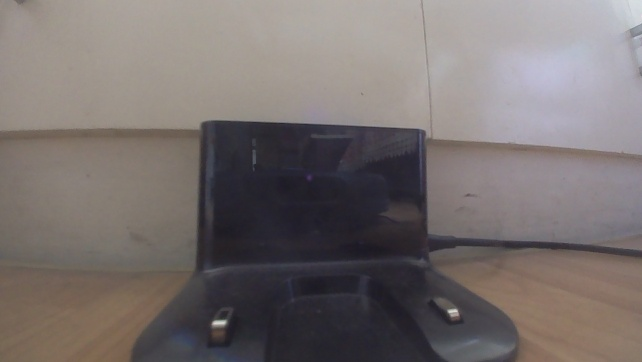charger: (118, 115, 520, 361)
wire: (455, 232, 640, 261)
